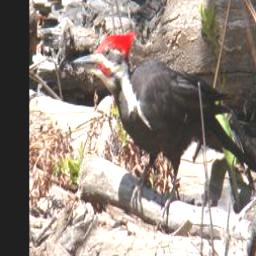Woodpecker: (70, 28, 256, 225)
